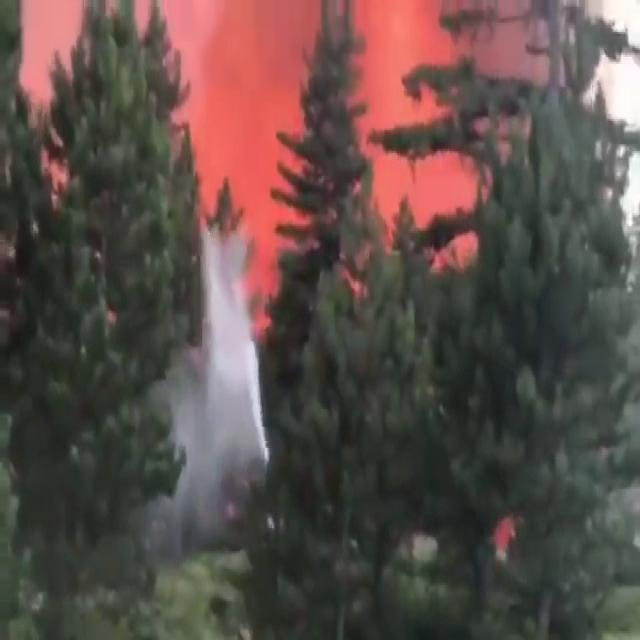Fire: (199, 14, 477, 233), (480, 502, 522, 552)
Smoke: (186, 300, 292, 505)
